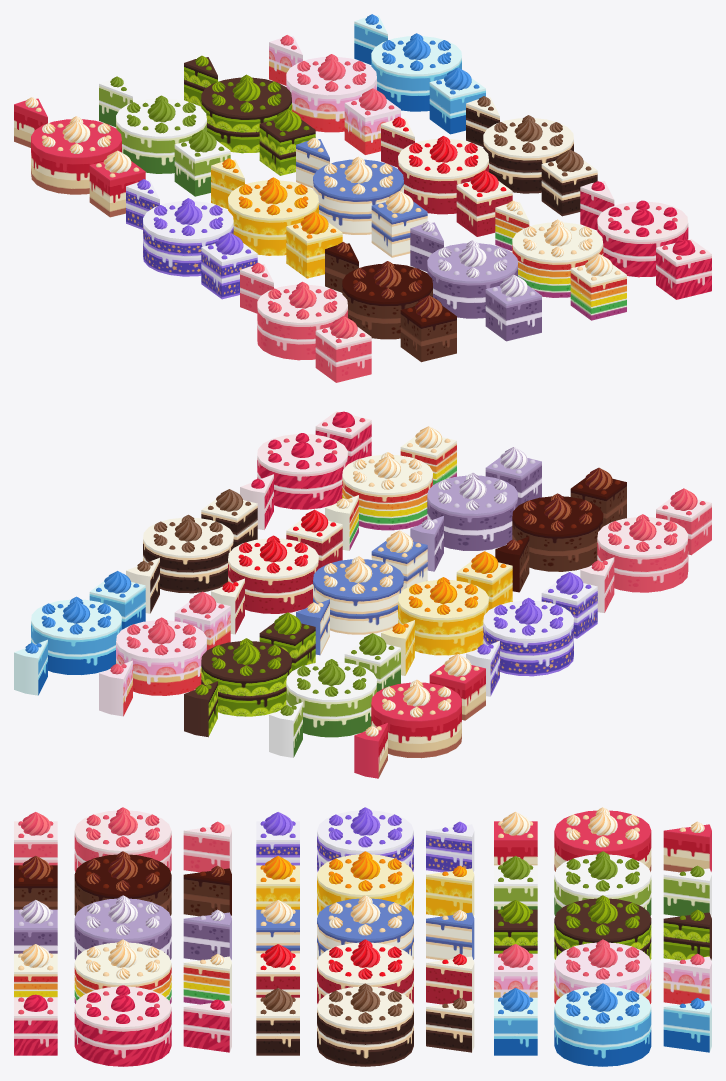
File: cake.glb
3 views of the same model, one above another, from view 1: azimuth 30°, elevation 25°; view 2: azimuth 150°, elevation 25°; view 3: azimuth 270°, elevation 25° (orthographic). The views are drawn at different scales.
Visible parts, largest first — view 1: Slice_Strawberry_Cake_0, Slice_Rainbow_Cake_0, Slice_Chocolate_cake_0, Slice_Purple_Cake_0, Slice_Mooncake_0, Slice_Cheesecake_0, Slice_Red_Velvet_0, Slice_Blueberry_Cream_0, Slice_Cookies_and_cream_0, Slice_Fruit_Cake_0, Slice_Strawberry_Cream_0, Slice_Oceon_Blue_Cream_0 (+4 smaller); view 2: Slice_Cheesecake_0, Slice_Tea_Cake_0, Slice_Qiiwi_cake_0, Slice_Strawberry_Cream_0, Slice_Oceon_Blue_Cream_0, Slice_Strawberry_Cake_0, Slice_Mooncake_0, Slice_Chocolate_cake_0, Slice_Rainbow_Cake_0, Slice_Purple_Cake_0, Slice_Blueberry_Cream_0, Slice_Red_Velvet_0 (+4 smaller); view 3: Slice_Oceon_Blue_Cream_0, Slice_Cookies_and_cream_0, Slice_Icecream_Cake_0, Slice_Rainbow_Cake_0, Slice_Qiiwi_cake_0, Slice_Purple_Cake_0, Slice_Cheesecake_0, Slice_Tea_Cake_0, Slice_Strawberry_Cream_0, Slice_Chocolate_cake_0, Slice_Strawberry_Cake_0, Slice_Red_Velvet_0 (+4 smaller).
Boxes of the visible parts, left/top/right/bottom form: Slice_Strawberry_Cake_0: left=240, top=262, right=371, bottom=382; Slice_Rainbow_Cake_0: left=495, top=200, right=626, bottom=320; Slice_Chocolate_cake_0: left=325, top=242, right=456, bottom=362; Slice_Purple_Cake_0: left=410, top=221, right=541, bottom=341; Slice_Mooncake_0: left=126, top=179, right=257, bottom=299; Slice_Cheesecake_0: left=14, top=97, right=145, bottom=217; Slice_Red_Velvet_0: left=381, top=117, right=512, bottom=236; Slice_Blueberry_Cream_0: left=296, top=137, right=427, bottom=257; Slice_Cookies_and_cream_0: left=466, top=96, right=597, bottom=216; Slice_Fruit_Cake_0: left=211, top=158, right=342, bottom=278; Slice_Strawberry_Cream_0: left=269, top=35, right=400, bottom=154; Slice_Oceon_Blue_Cream_0: left=354, top=14, right=485, bottom=134; Slice_Cheesecake_0: left=354, top=654, right=485, bottom=778; Slice_Tea_Cake_0: left=269, top=633, right=400, bottom=757; Slice_Qiiwi_cake_0: left=184, top=612, right=315, bottom=737; Slice_Strawberry_Cream_0: left=99, top=591, right=230, bottom=716; Slice_Oceon_Blue_Cream_0: left=14, top=571, right=145, bottom=695; Slice_Strawberry_Cake_0: left=580, top=488, right=711, bottom=612; Slice_Mooncake_0: left=466, top=572, right=597, bottom=696; Slice_Chocolate_cake_0: left=495, top=467, right=626, bottom=592; Slice_Rainbow_Cake_0: left=325, top=426, right=456, bottom=550; Slice_Purple_Cake_0: left=410, top=447, right=541, bottom=571; Slice_Blueberry_Cream_0: left=296, top=530, right=427, bottom=655; Slice_Red_Velvet_0: left=211, top=509, right=342, bottom=634; Slice_Oceon_Blue_Cream_0: left=494, top=983, right=711, bottom=1066; Slice_Cookies_and_cream_0: left=256, top=983, right=474, bottom=1066; Slice_Icecream_Cake_0: left=14, top=986, right=231, bottom=1066; Slice_Rainbow_Cake_0: left=14, top=939, right=231, bottom=1004; Slice_Qiiwi_cake_0: left=494, top=895, right=711, bottom=960; Slice_Purple_Cake_0: left=14, top=895, right=231, bottom=960; Slice_Cheesecake_0: left=494, top=807, right=711, bottom=872; Slice_Tea_Cake_0: left=494, top=851, right=711, bottom=916; Slice_Strawberry_Cream_0: left=494, top=939, right=711, bottom=1004; Slice_Chocolate_cake_0: left=14, top=851, right=231, bottom=916; Slice_Strawberry_Cake_0: left=14, top=807, right=231, bottom=872; Slice_Red_Velvet_0: left=256, top=939, right=474, bottom=1004.
Size of the model in its own units: 2.12 by 0.2662 by 2.88.
16 materials, 16 textured.
